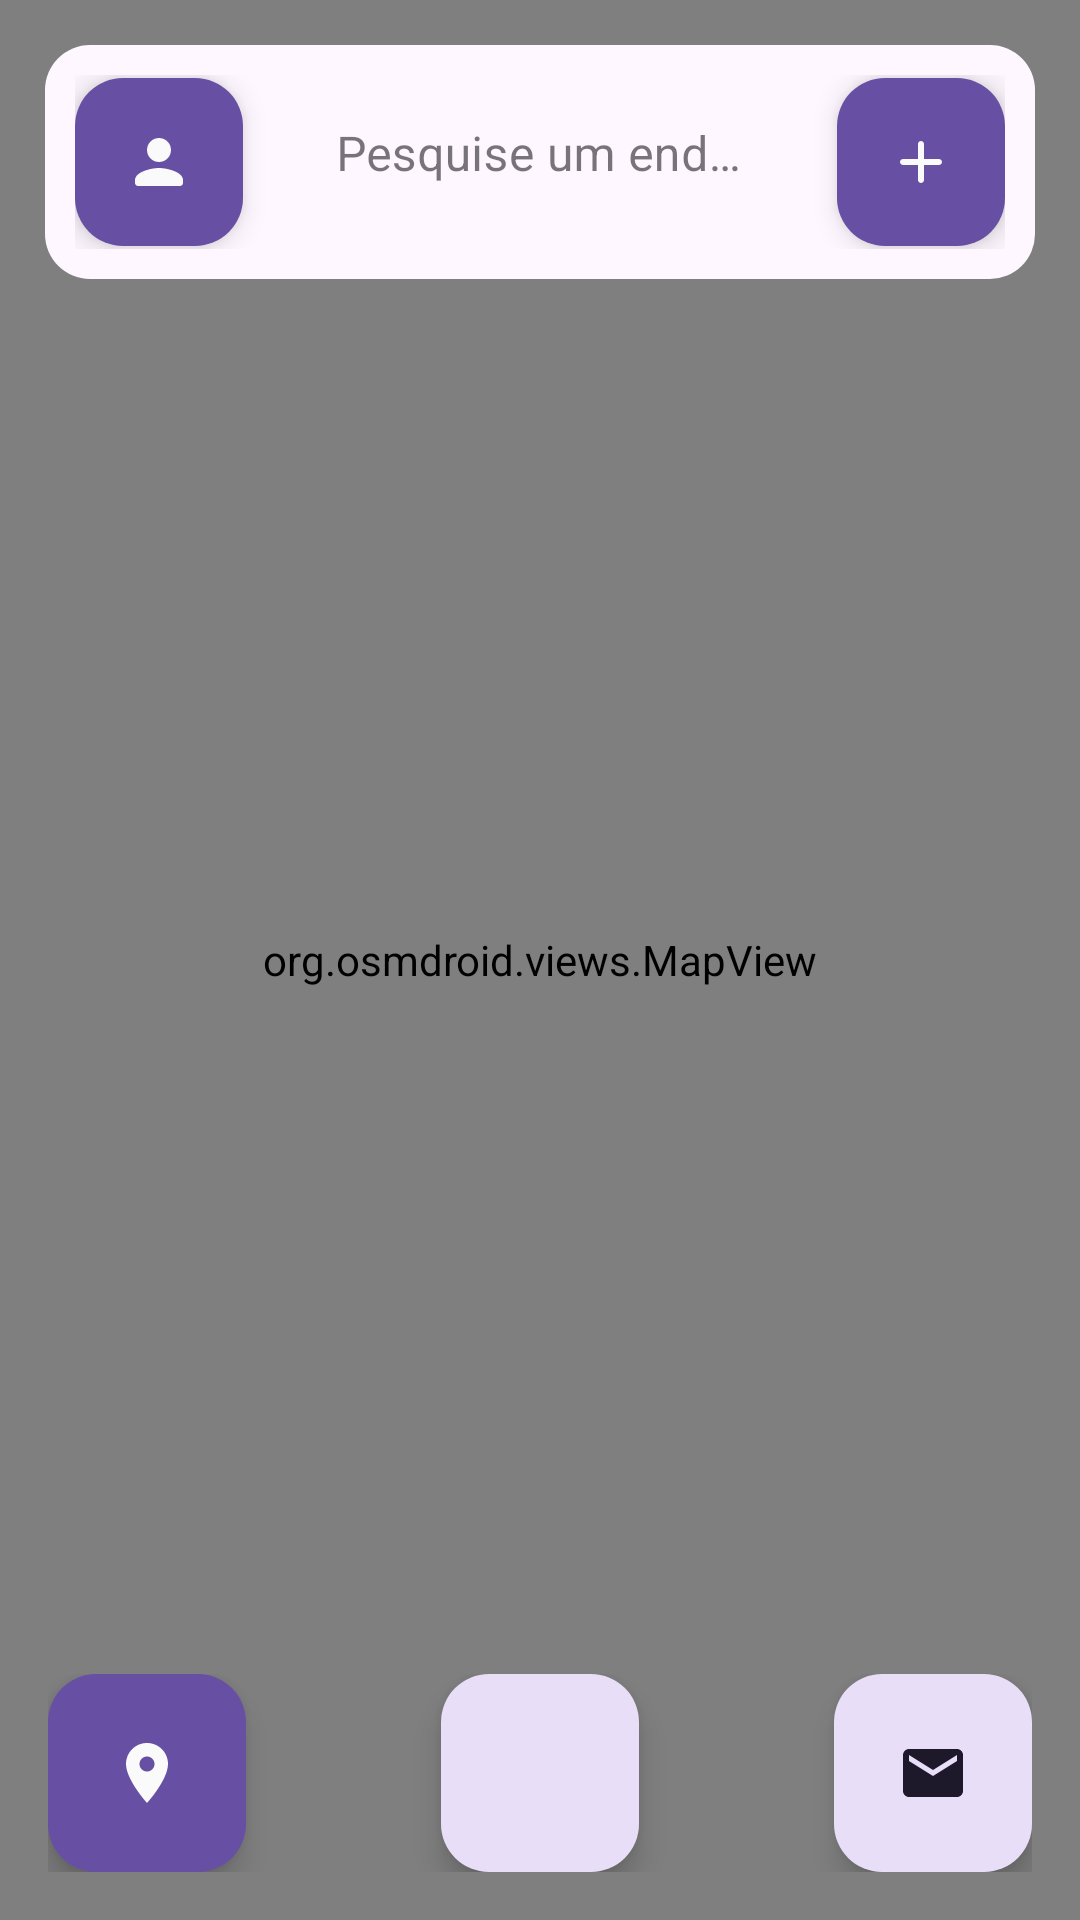

Where to tap for icons on this 1080px×1920px app screen, as [x,y]:
add: [921,162]
email: [933,1773]
location on: [147,1773]
person: [159,162]
